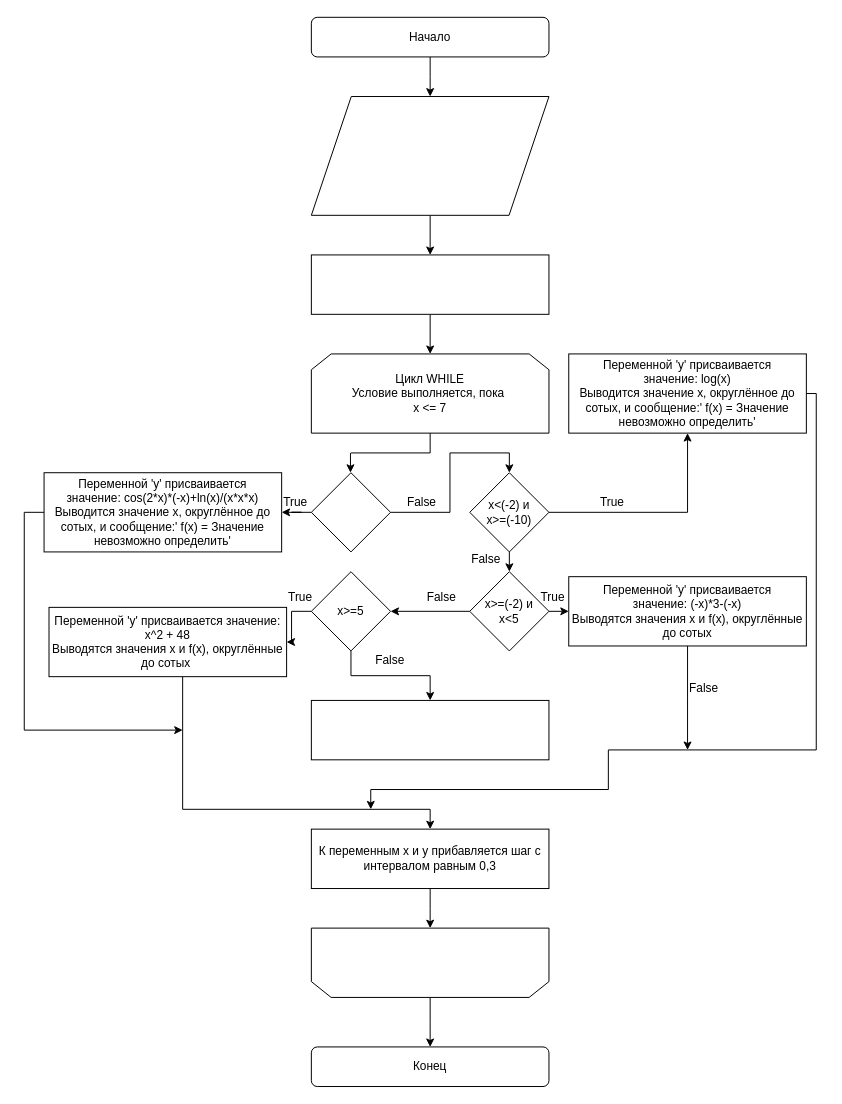
Some shapes in this 842 by 1104 pixel diagram are drawn without their labels. Here are the shapes that lost their labels. From the top down, the centre of each, then its label:
At point 429,155: "Объявляем переменные 'x' и 'y' вещественного типа real".
At point 429,284: "Присваиваем переменной 'x' значение (-12)".
At point 350,512: "x < (-10)".
At point 429,729: "Выводится сообщение:'Значение невозможно определить'".
At point 429,962: "Цикл WHILE".
